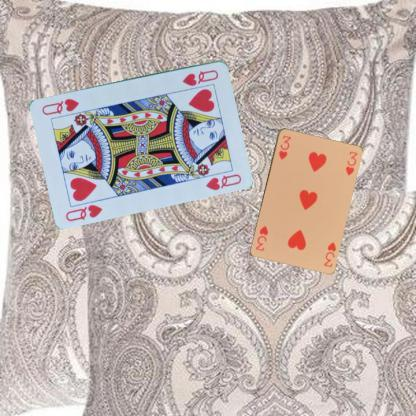3h: (276, 132, 292, 161), (321, 239, 337, 268)
Qh: (180, 66, 220, 88), (63, 201, 104, 222)
